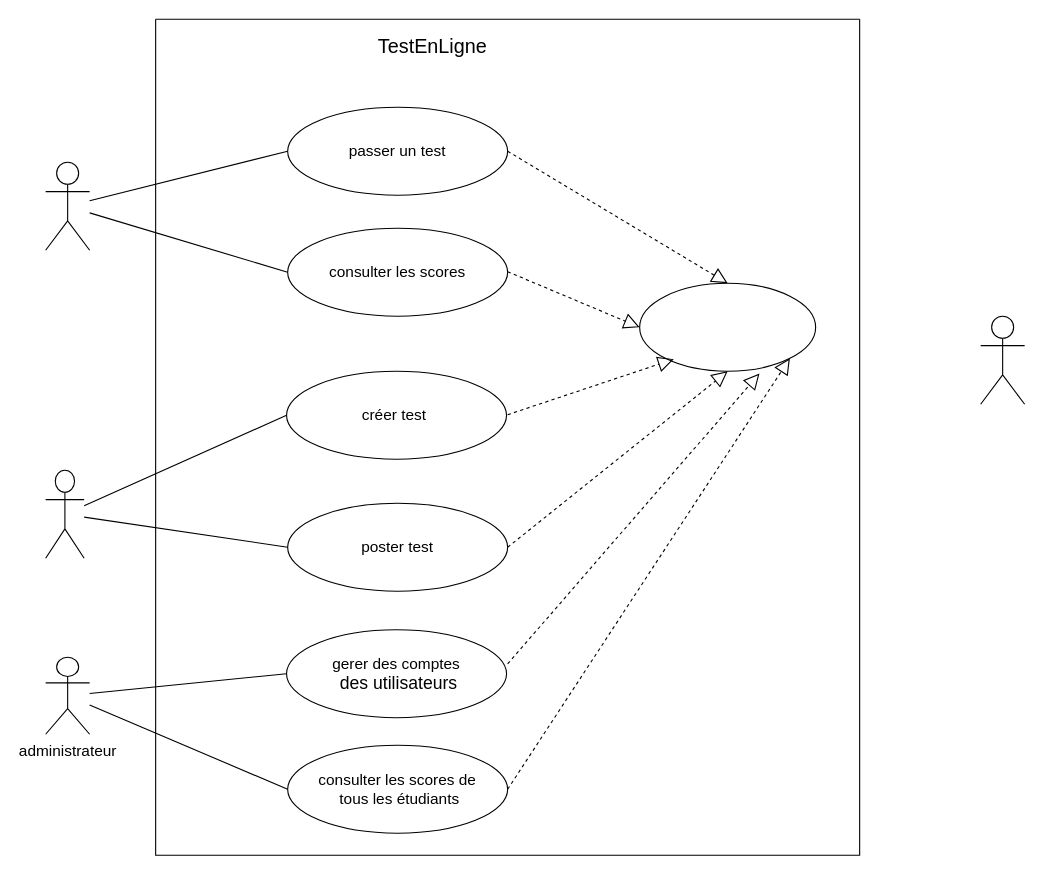
Some shapes in this 1058 by 875 pixel diagram are drawn without their labels. The centre of each missing label's shape, as x and y in pixels:
"GestNotes" belongs at (1002,359).
"professeurs" belongs at (64,513).
"s'authentifier" belongs at (727,326).
"étudiant" belongs at (67,205).
